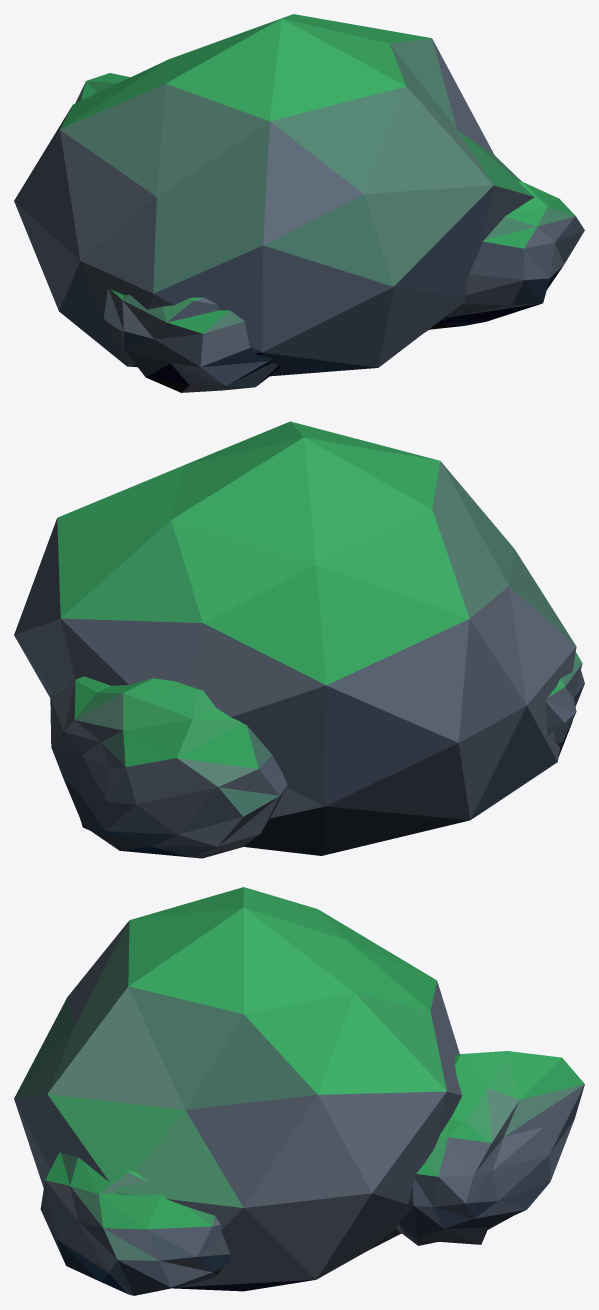
File: batu_boulder_granite_54321.glb
3 renders of one model, top to bottom at view 1: azimuth 30°, elevation 25°; view 2: azimuth 150°, elevation 25°; view 3: azimuth 270°, elevation 25°, orthographic. The views are drawn at different scales.
Visible parts, largest first — view 1: Batu_Jeram_Sungai; view 2: Batu_Jeram_Sungai; view 3: Batu_Jeram_Sungai.
Part boxes in pixels (x1,y1,x2,y2): Batu_Jeram_Sungai: (14,14,584,392); Batu_Jeram_Sungai: (14,421,584,858); Batu_Jeram_Sungai: (14,887,584,1295).
Size of the model in its own units: 5.32 by 3.45 by 5.71.
